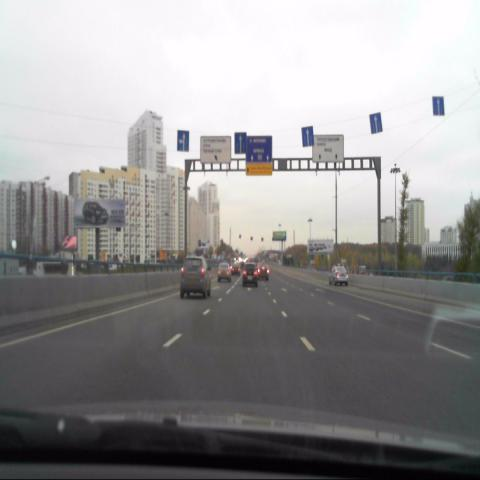5_15_2: (369, 112, 383, 134), (235, 132, 247, 153), (301, 126, 313, 146), (177, 131, 188, 150), (433, 97, 444, 115)
